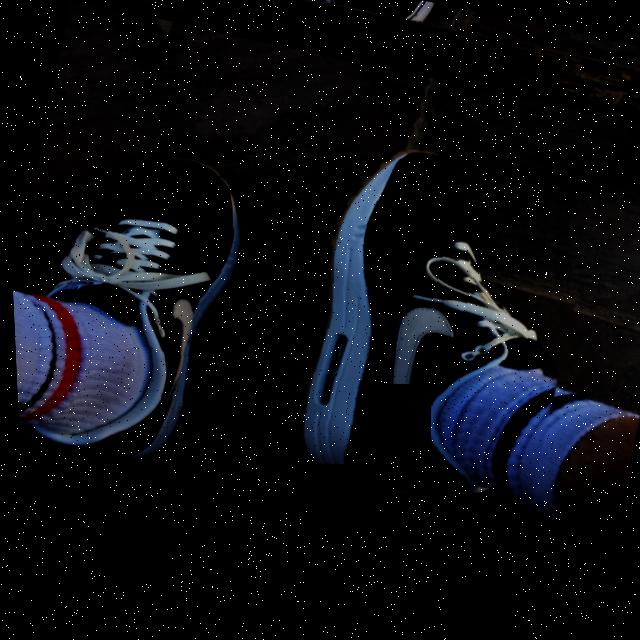shoe: (259, 122, 614, 552), (4, 118, 279, 508)
